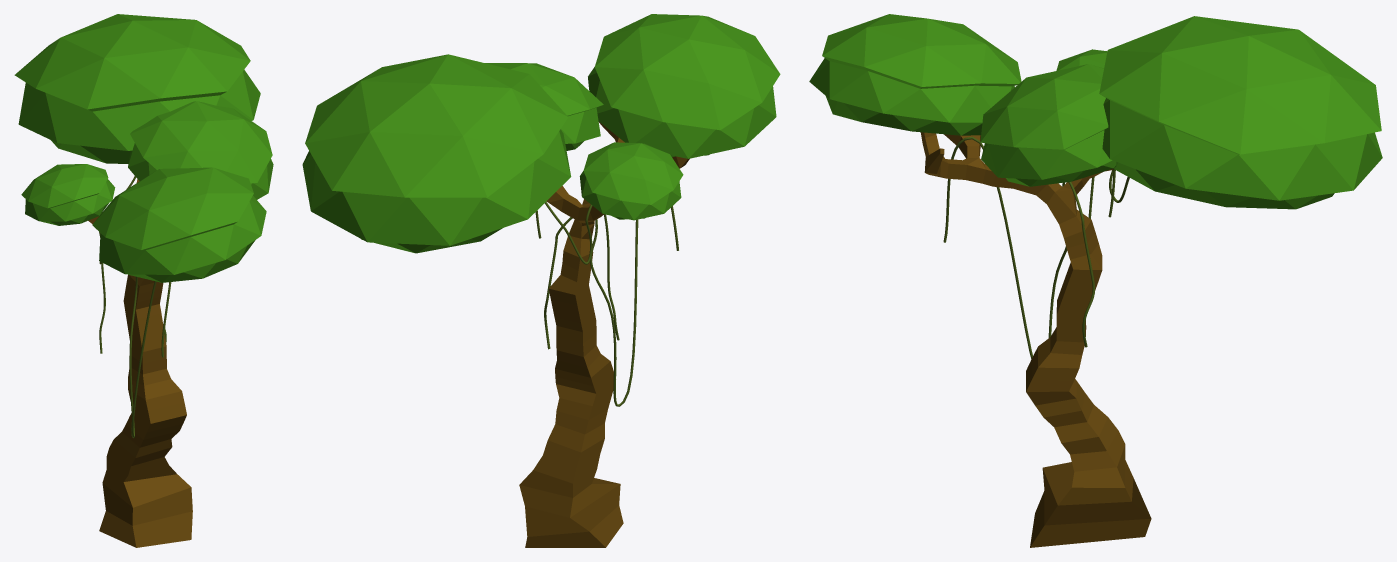
Rendered from big_tree.fbx.
The picture shows the model from 3 angles, left to right: view 1: azimuth 30°, elevation 25°; view 2: azimuth 150°, elevation 25°; view 3: azimuth 270°, elevation 25°; orthographic projection. The views are drawn at different scales.
Parts seen in each view (by area): view 1: Icosphere, Icosphere.002, Cube, Icosphere.001, Icosphere.003, BezierCurve; view 2: Icosphere, Icosphere.002, Cube, Icosphere.003, Icosphere.001, BezierCurve, BezierCurve.001; view 3: Icosphere, Cube, Icosphere.002, Icosphere.001, BezierCurve.
Part boxes in pixels (box(x1,y1,x2,y2)): Icosphere: box(14, 14, 260, 163); Icosphere.002: box(92, 167, 266, 282); Cube: box(88, 179, 192, 547); Icosphere.001: box(128, 101, 273, 199); Icosphere.003: box(21, 164, 115, 225); BezierCurve: box(129, 276, 171, 437); Icosphere: box(302, 54, 571, 253); Icosphere.002: box(588, 14, 780, 158); Cube: box(519, 121, 689, 547); Icosphere.003: box(579, 142, 683, 220); Icosphere.001: box(485, 63, 603, 150); BezierCurve: box(544, 206, 678, 406); BezierCurve.001: box(535, 201, 619, 340); Icosphere: box(1099, 16, 1382, 209); Cube: box(920, 132, 1151, 547); Icosphere.002: box(809, 14, 1021, 135); Icosphere.001: box(980, 64, 1116, 186); BezierCurve: box(943, 136, 1095, 358).
Bounding box in the file's own units: 1149 × 1815 × 1776.
